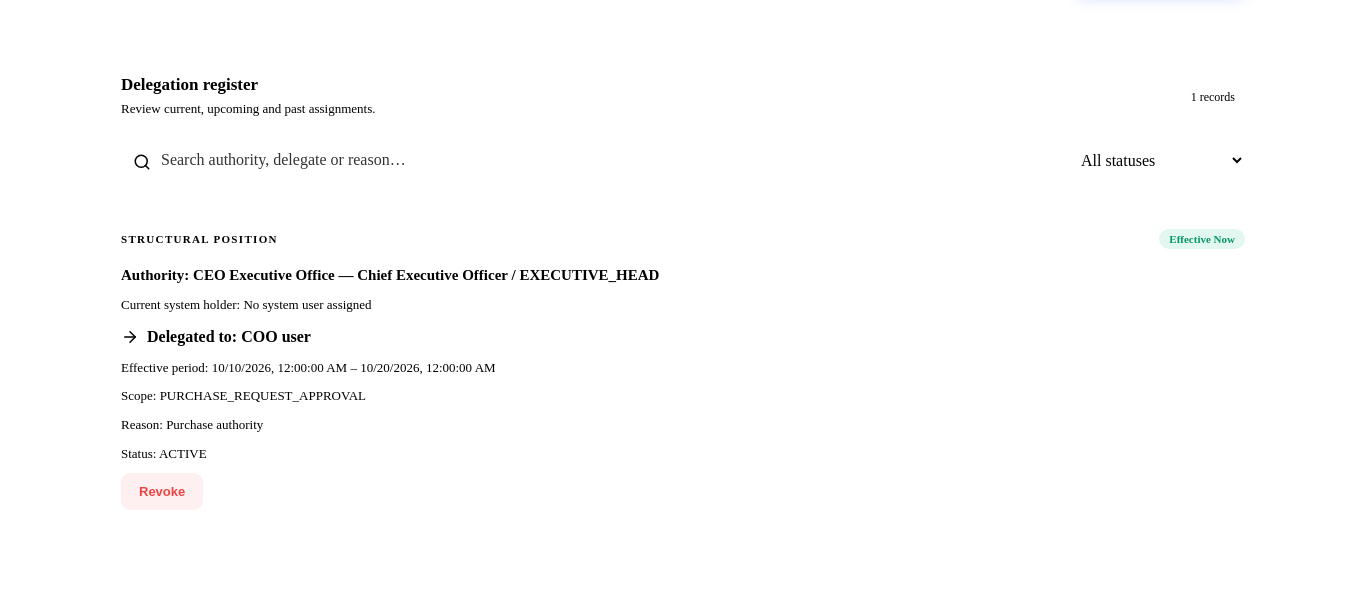
Test: revocation uses the governed endpoint with a reason
(page scrolled)
Step 1. Click the button "Revoke" → click(162, 491), box 121,473 -> 203,510
(page scrolled)
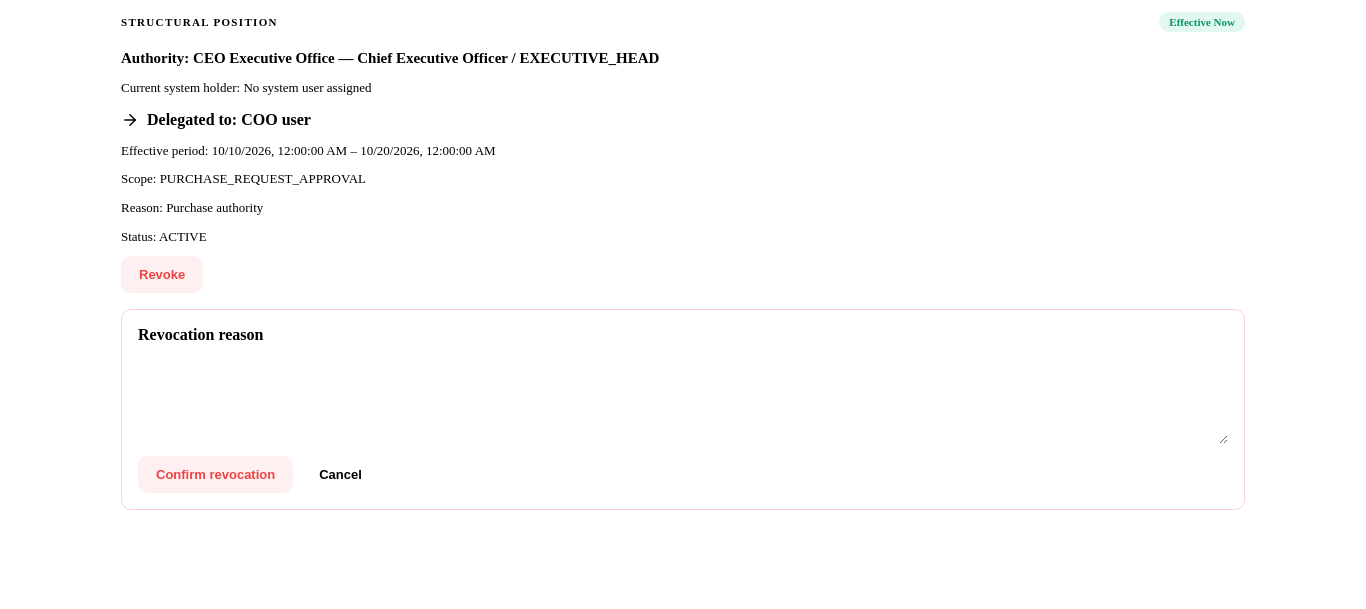
Step 2. Type "Authority returned" into the text box labelled "Revocation reason" → (683, 398), box 138,352 -> 1228,444
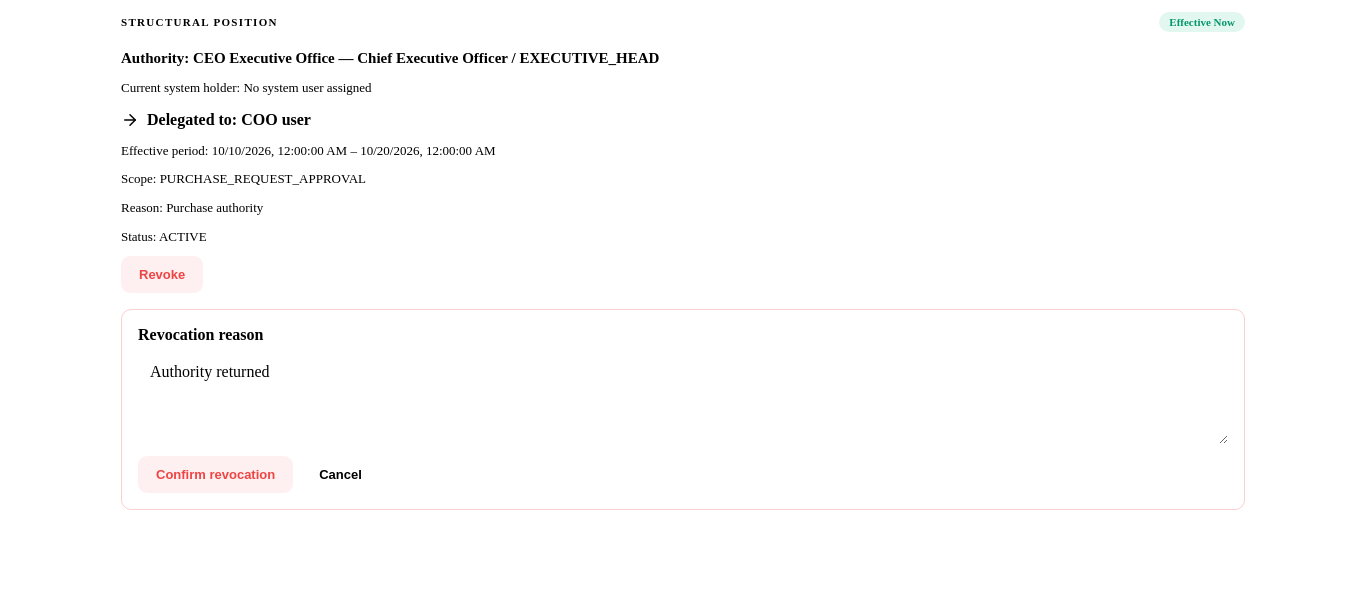
Step 3. Click the button "Confirm revocation" → click(216, 474), box 138,456 -> 293,493
(page scrolled)
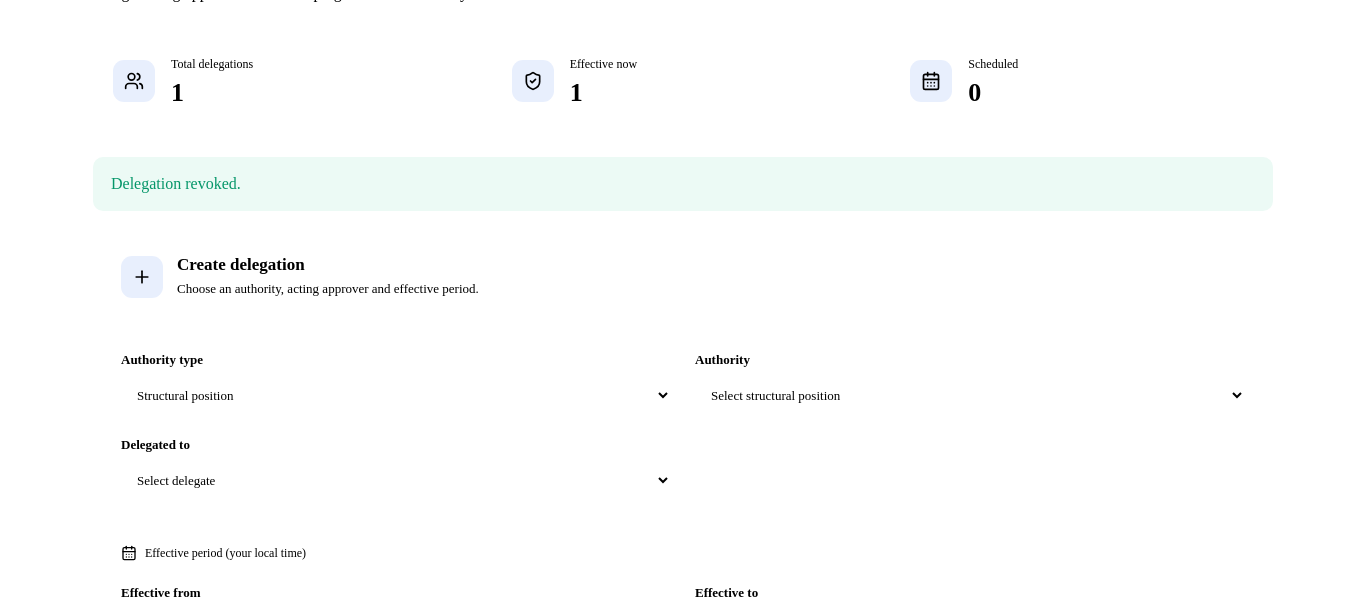
Now the text "Delegation revoked." is shown, box 93,157 -> 1273,211
